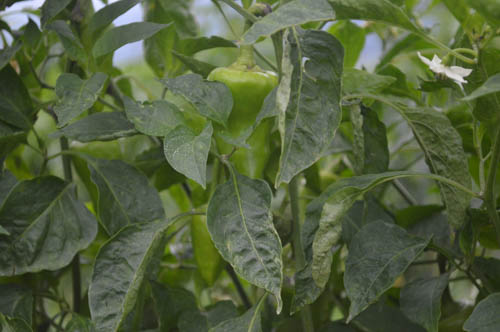ChiliPepper: (206, 70, 281, 189), (72, 136, 159, 233), (190, 207, 227, 292)
